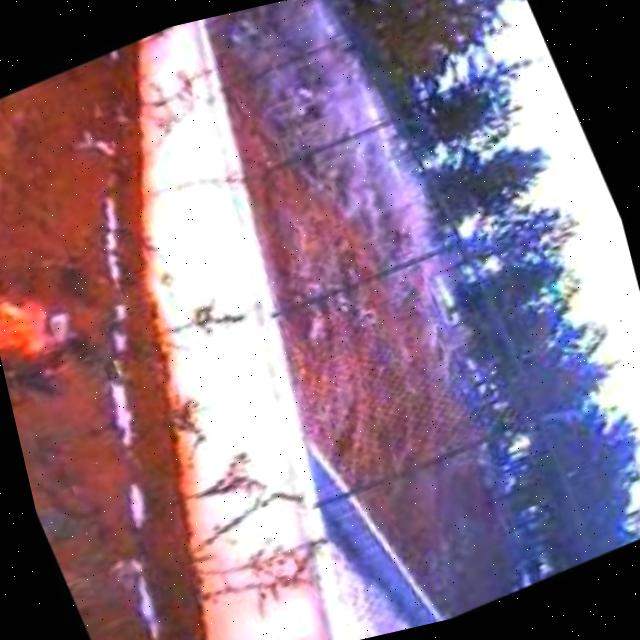fire: (0, 276, 70, 385)
